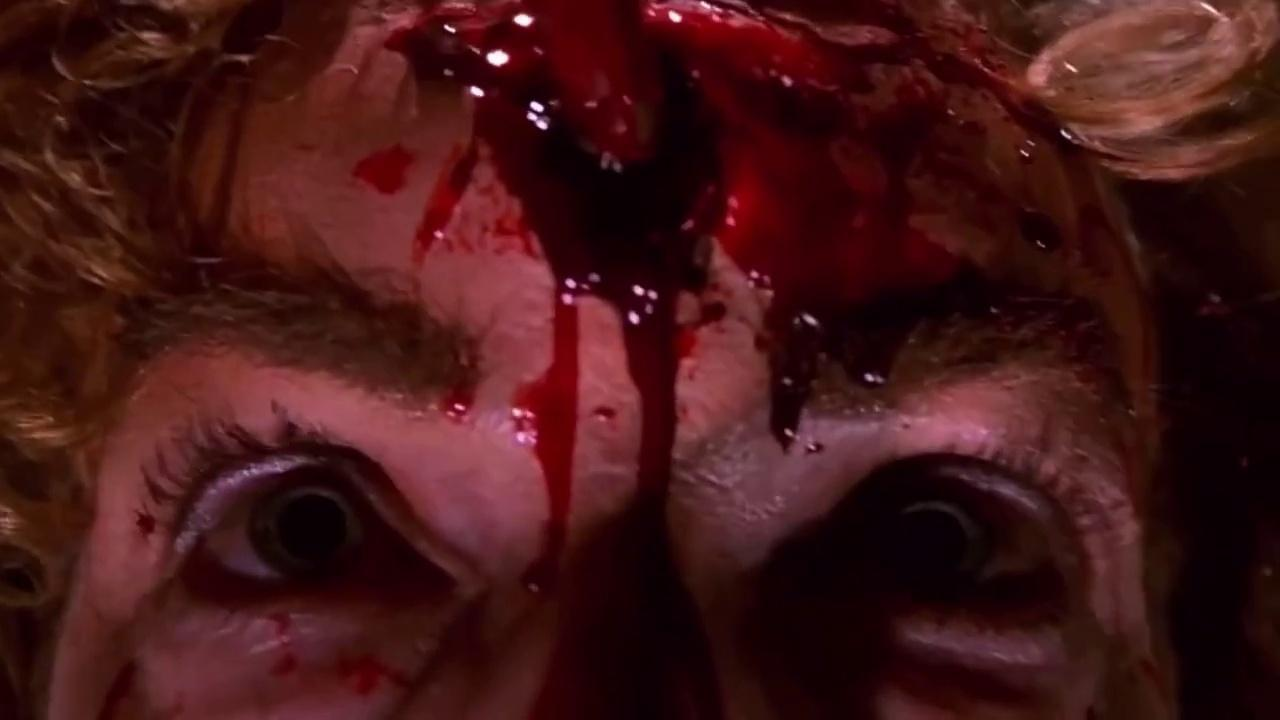Fire: (269, 652, 393, 720), (404, 379, 477, 429), (90, 651, 135, 720), (268, 607, 299, 631)
